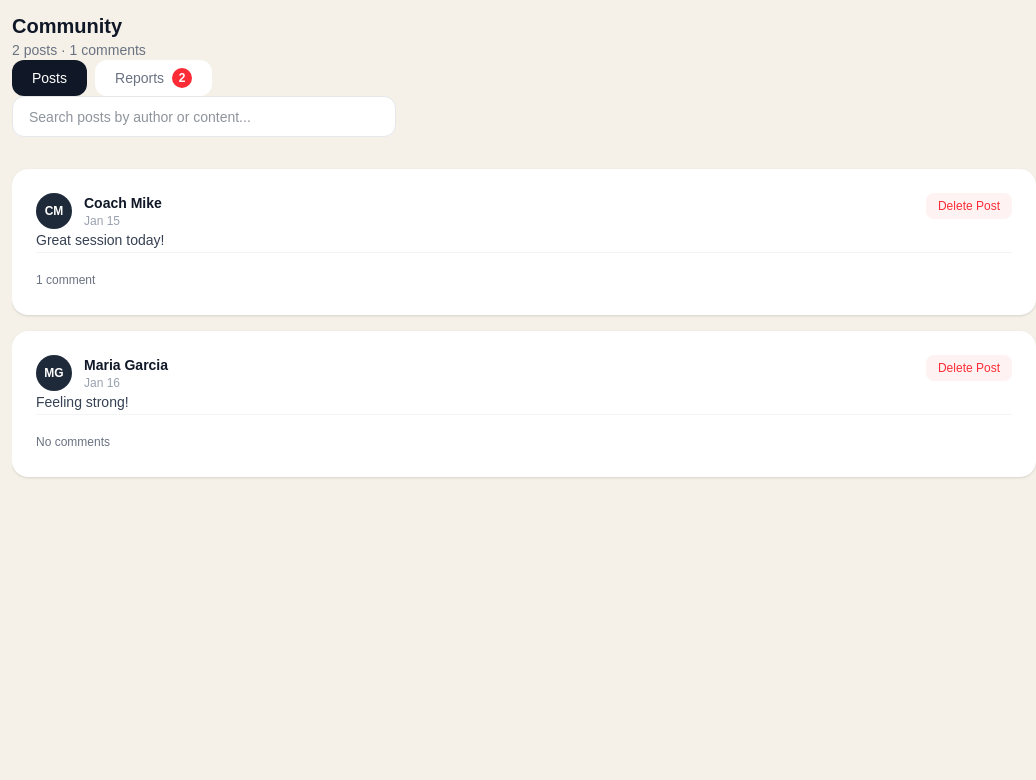
it: Admin Community Page › hides comments after toggling again
Check: the text "Coach Mike" is shown, box [84,193,162,213]
Click the button "1 comment" at (66,280), box [36,272,95,288]
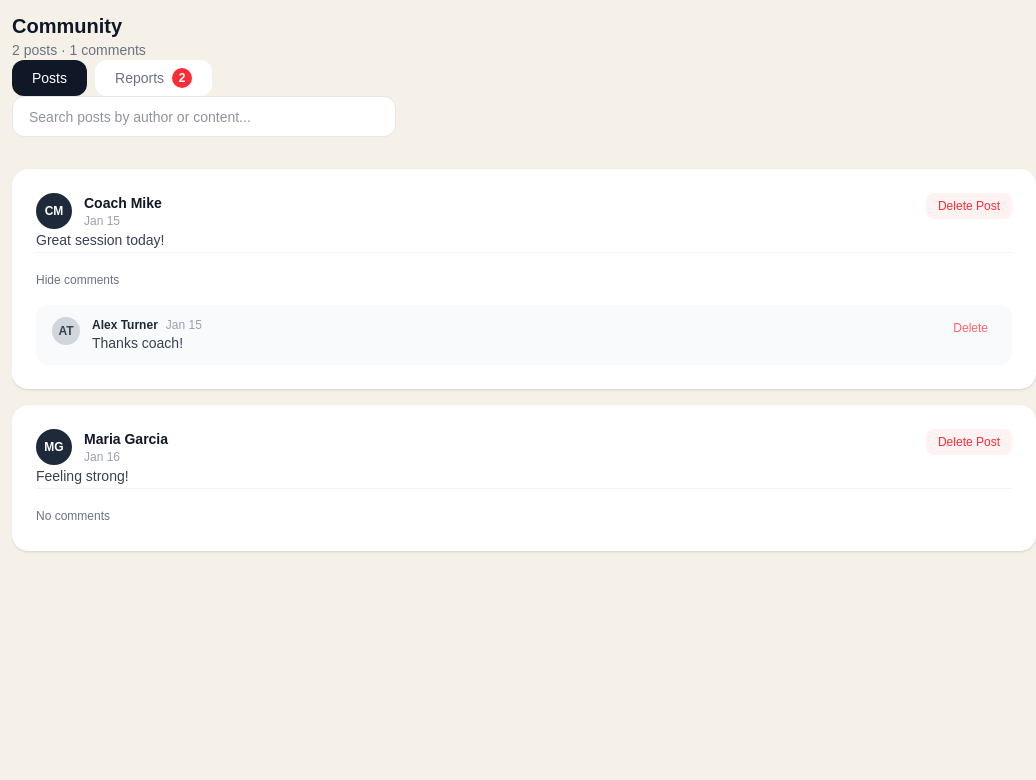
Click the button "Hide comments" at (78,280), box [36,272,119,288]
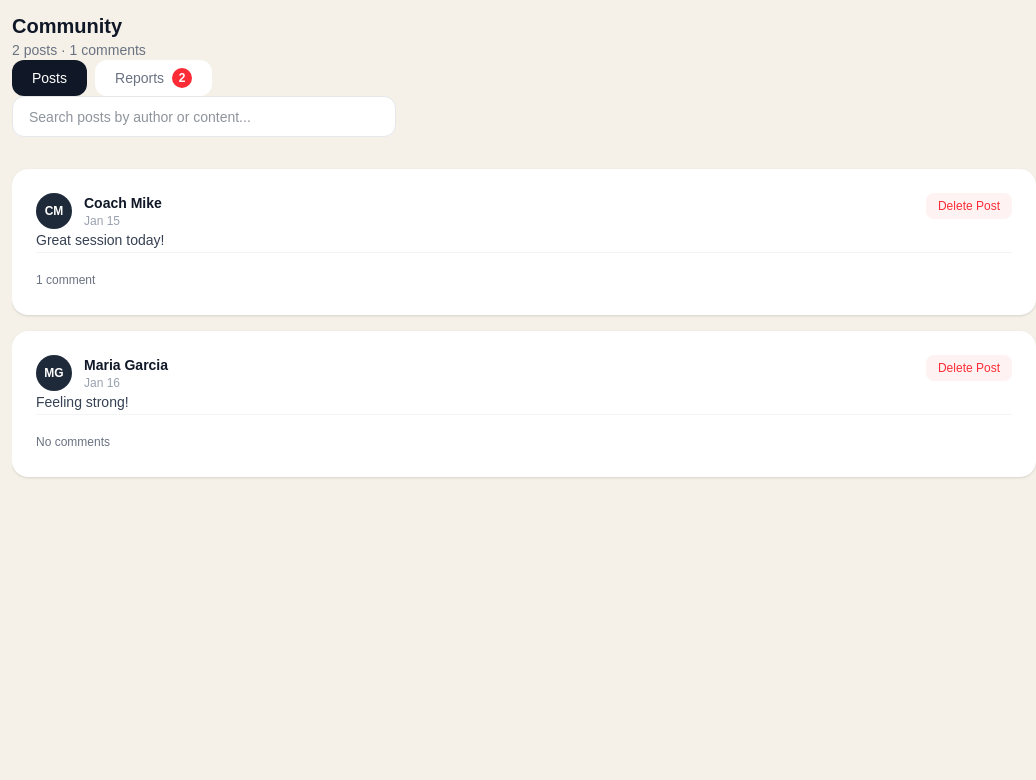
Check: the text "Thanks coach!" is gone
